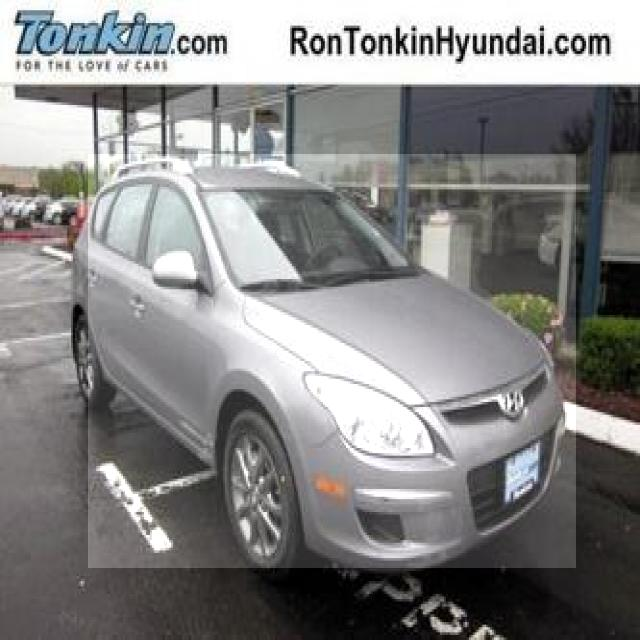Car: (89, 154, 576, 568)
